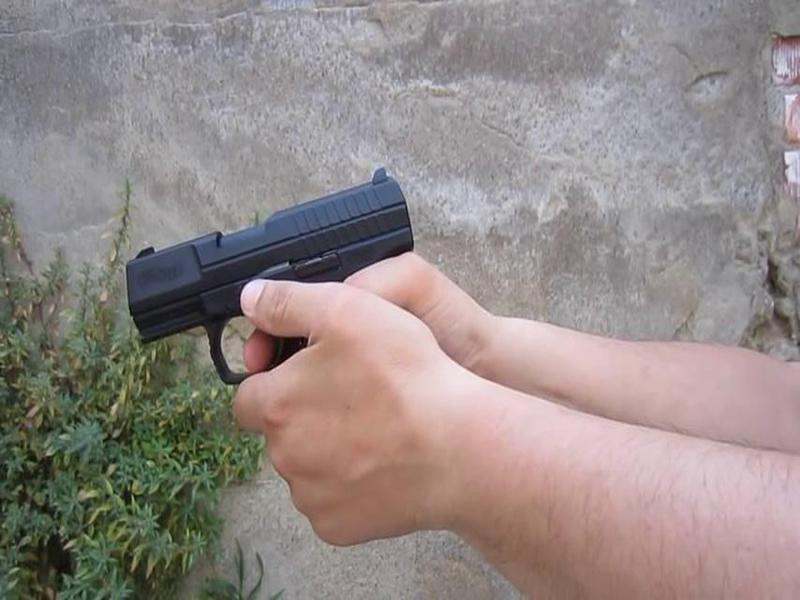Pistola: (125, 166, 412, 377)
